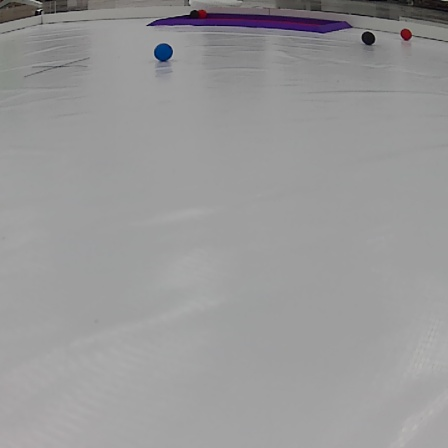black: (359, 32, 377, 44), (190, 11, 198, 19)
blue: (152, 43, 177, 61)
red: (400, 27, 414, 38), (198, 10, 208, 17)
red_aim: (143, 9, 350, 36)
